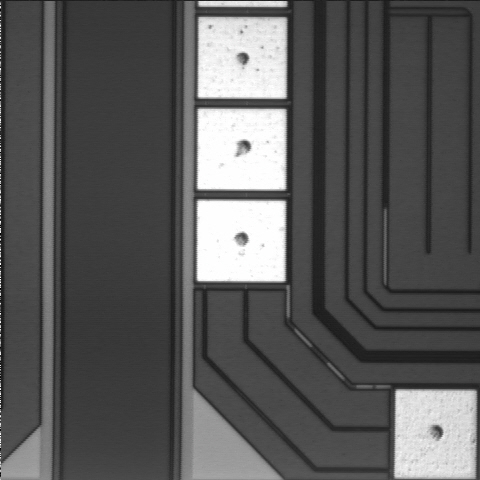pad: (197, 200, 286, 282), (198, 17, 286, 99), (197, 109, 286, 190)
